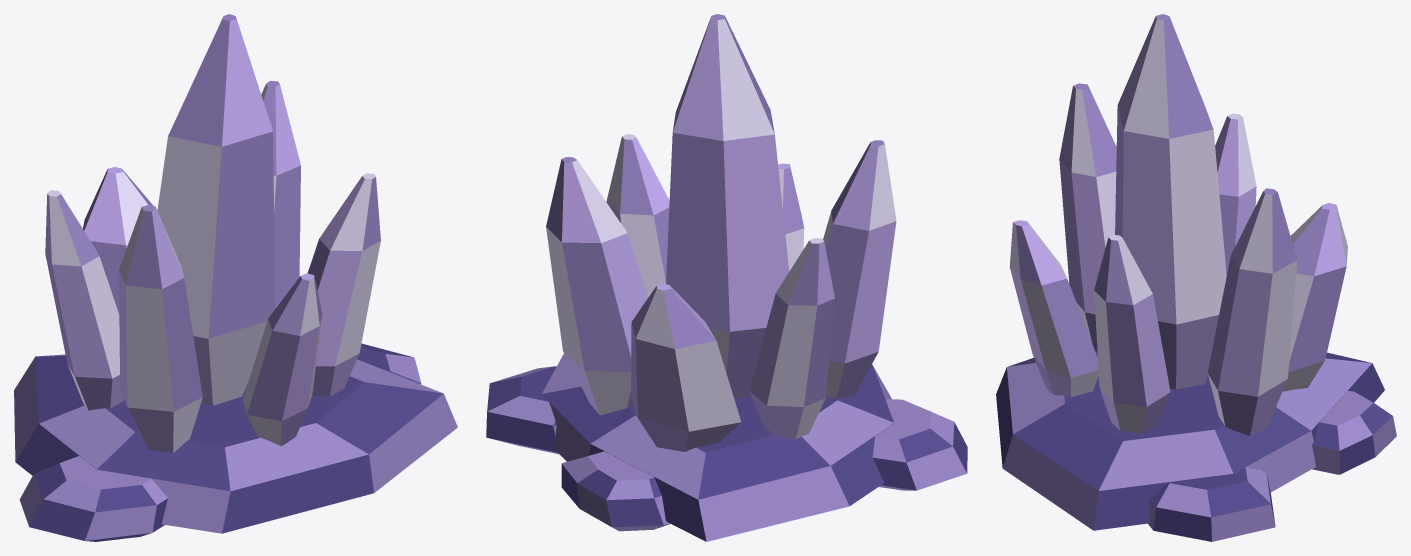
File: BH_ORE_O22_Prisma_Galactico_V01.glb
3 views of the same model, side by side, from view 1: azimuth 30°, elevation 25°; view 2: azimuth 150°, elevation 25°; view 3: azimuth 270°, elevation 25° (orthographic). The views are drawn at different scales.
Visible parts, largest first — view 1: Bedrock | primary.001, Hero prism.001, O22 | shard 6.001, O22 | shard 5.001, O22 | shard 2.001, Bedrock | shoulder 1.001, O22 | shard 1.001, O22 | shard 3.001, O22 | shard 4.001, Bedrock | shoulder 2.001; view 2: Hero prism.001, Bedrock | primary.001, O22 | shard 3.001, O22 | shard 4.001, O22 | shard 6.001, O22 | shard 5.001, Bedrock | shoulder 1.001, O22 | shard 2.001, Bedrock | shoulder 3.001, Bedrock | shoulder 2.001, O22 | shard 1.001; view 3: Bedrock | primary.001, Hero prism.001, O22 | shard 3.001, O22 | shard 2.001, O22 | shard 6.001, O22 | shard 1.001, O22 | shard 4.001, Bedrock | shoulder 2.001, Bedrock | shoulder 3.001, O22 | shard 5.001.
Part boxes in pixels (<box>): Bedrock | primary.001: <box>14,354,457,533</box>; Hero prism.001: <box>157,14,274,405</box>; O22 | shard 6.001: <box>119,205,202,452</box>; O22 | shard 5.001: <box>45,190,124,410</box>; O22 | shard 2.001: <box>307,173,380,396</box>; Bedrock | shoulder 1.001: <box>19,456,167,541</box>; O22 | shard 1.001: <box>243,273,322,446</box>; O22 | shard 3.001: <box>261,81,300,308</box>; O22 | shard 4.001: <box>83,167,153,314</box>; Bedrock | shoulder 2.001: <box>357,343,421,384</box>; Hero prism.001: <box>666,14,789,398</box>; Bedrock | primary.001: <box>542,353,893,541</box>; O22 | shard 3.001: <box>546,157,647,415</box>; O22 | shard 4.001: <box>631,283,740,451</box>; O22 | shard 6.001: <box>823,140,896,398</box>; O22 | shard 5.001: <box>749,238,834,439</box>; Bedrock | shoulder 1.001: <box>872,399,967,490</box>; O22 | shard 2.001: <box>606,134,669,297</box>; Bedrock | shoulder 3.001: <box>561,451,670,531</box>; Bedrock | shoulder 2.001: <box>486,366,558,454</box>; O22 | shard 1.001: <box>778,163,804,271</box>; Bedrock | primary.001: <box>996,351,1384,530</box>; Hero prism.001: <box>1115,14,1226,389</box>; O22 | shard 3.001: <box>1207,188,1297,435</box>; O22 | shard 2.001: <box>1094,235,1170,433</box>; O22 | shard 6.001: <box>1059,83,1116,351</box>; O22 | shard 1.001: <box>1009,220,1098,397</box>; O22 | shard 4.001: <box>1283,203,1347,391</box>; Bedrock | shoulder 2.001: <box>1148,467,1275,541</box>; Bedrock | shoulder 3.001: <box>1312,391,1396,474</box>; O22 | shard 5.001: <box>1215,113,1256,275</box>.
Size of the model in its own units: 2.58 by 2.52 by 2.09.
